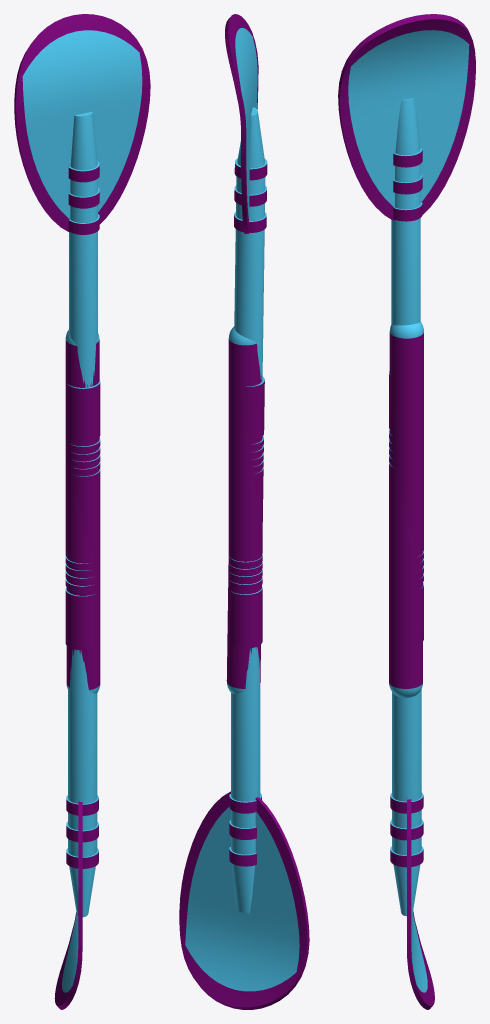
The model's file is paddle.fbx.
The picture shows the model from 3 angles, left to right: view 1: azimuth 90°, elevation 25°; view 2: azimuth 150°, elevation 25°; view 3: azimuth 270°, elevation 25°; orthographic projection.
Visible parts, largest first — view 1: Cylinder (×2); view 2: Cylinder (×2); view 3: Cylinder (×2).
Part boxes in pixels (x1=…): Cylinder (×2): x1=14, y1=14, x2=150, y2=1009; Cylinder (×2): x1=179, y1=14, x2=309, y2=1009; Cylinder (×2): x1=338, y1=14, x2=475, y2=1009.
Size of the model in its own units: 507 by 3701 by 466.
